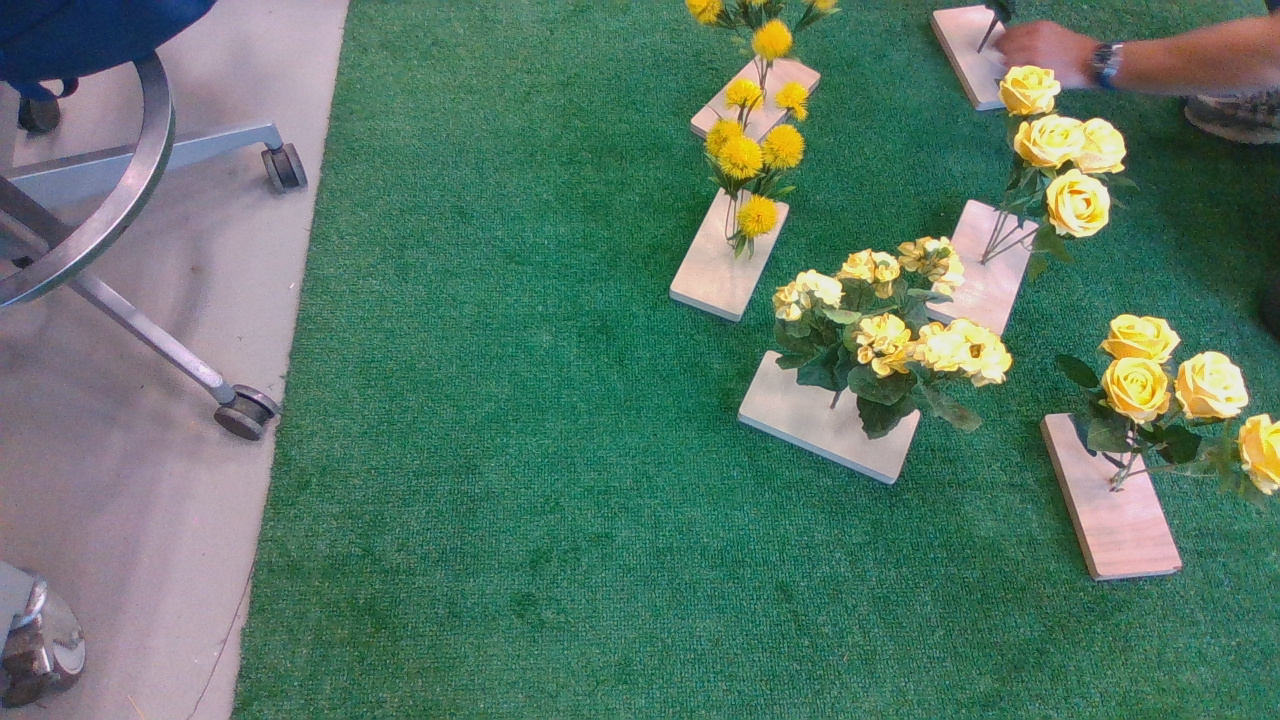dandelion: (713, 80, 818, 258), (670, 1, 891, 65)
geranium: (767, 233, 1029, 454)
rose: (1063, 303, 1280, 521), (999, 67, 1148, 273)
